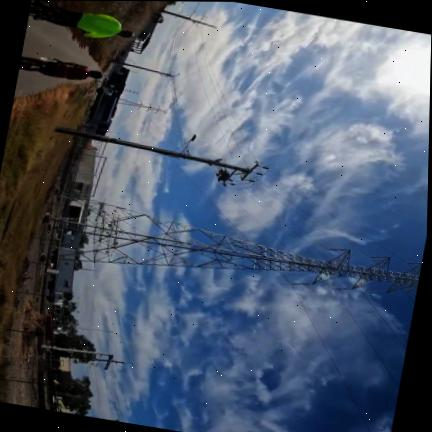Bike_Lane: (22, 16, 99, 71), (14, 71, 67, 100)
